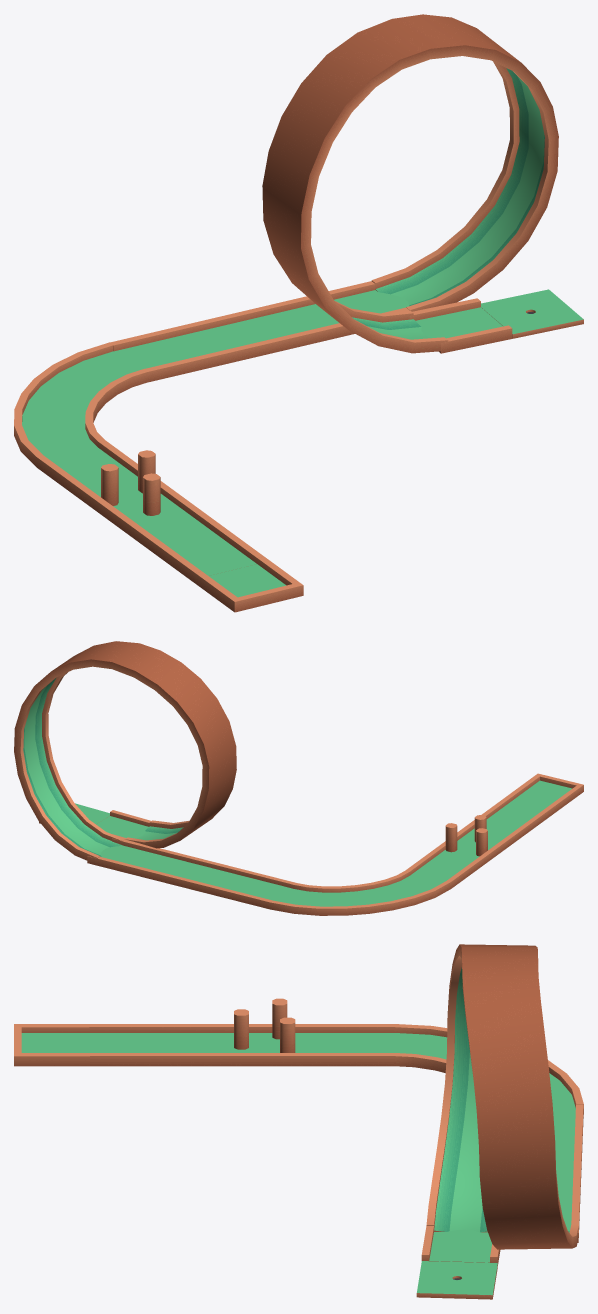
The model's file is mapa2.glb.
The picture shows the model from 3 angles, top to bottom: view 1: azimuth 30°, elevation 25°; view 2: azimuth 150°, elevation 25°; view 3: azimuth 270°, elevation 25°; orthographic projection. The views are drawn at different scales.
Visible parts, largest first — view 1: end; view 2: end; view 3: end.
Part boxes in pixels (<box>): end: <box>14,14,583,612</box>; end: <box>14,641,583,915</box>; end: <box>14,944,583,1299</box>.
Size of the model in its own units: 8.26 by 4.03 by 7.49.
10 materials, 10 textured.
